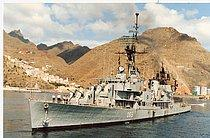MIL_Ship: (26, 35, 190, 126)
